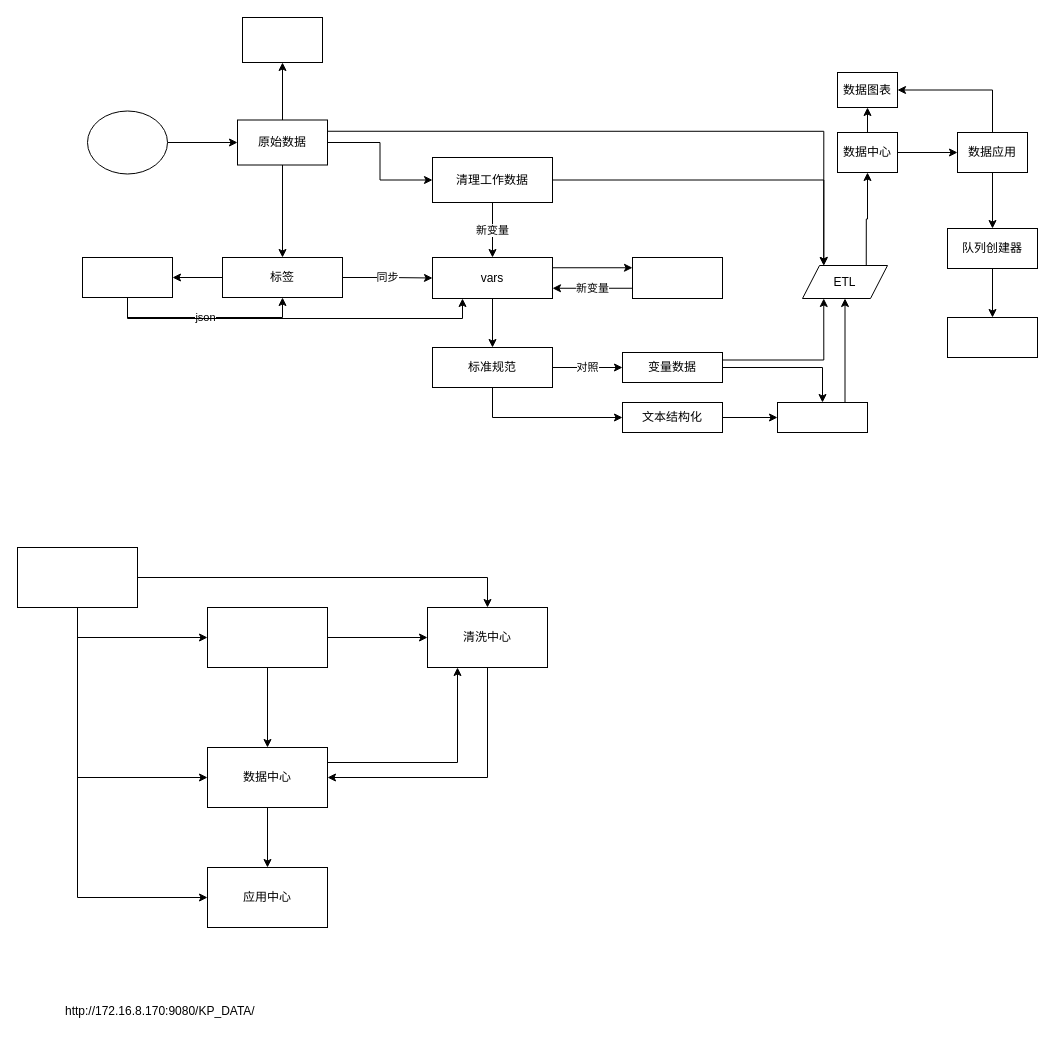
The diagram is 1055 pixels wide and 1039 high, and some of its shapes have lost their labels. The shapes that lost their labels are listed below. From the top down, each one's centre as x and y in pixels, then its label:
point 282,39: 数据分类
point 127,142: 数据接入
point 127,277: 字典
point 677,277: 清洗工具包
point 992,337: 数据分析
point 822,417: 变量组合
point 77,577: 管理中心
point 267,637: 资源中心
